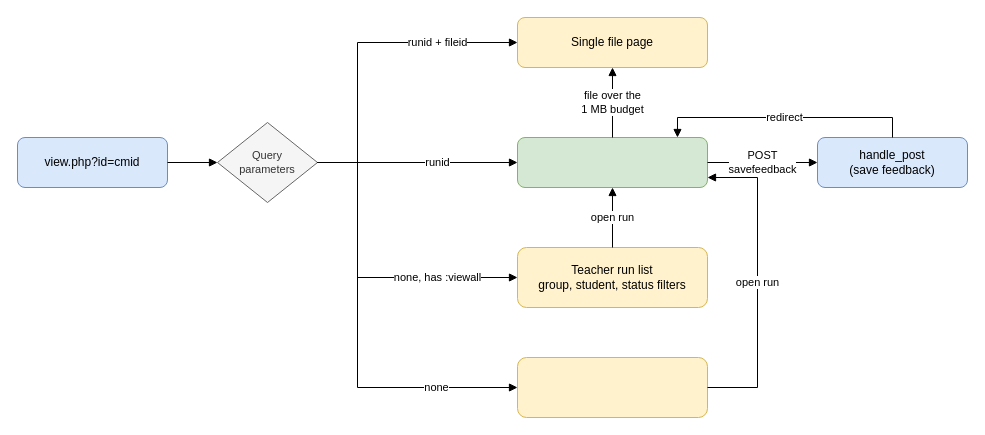
This 985x435 diagram has some shape labels left out. Here are the shapes that lost their labels. From the top down, the box of each, then its label:
(516, 136, 708, 188): Run detail
(516, 356, 708, 418): Student run list own runs + pass rate
